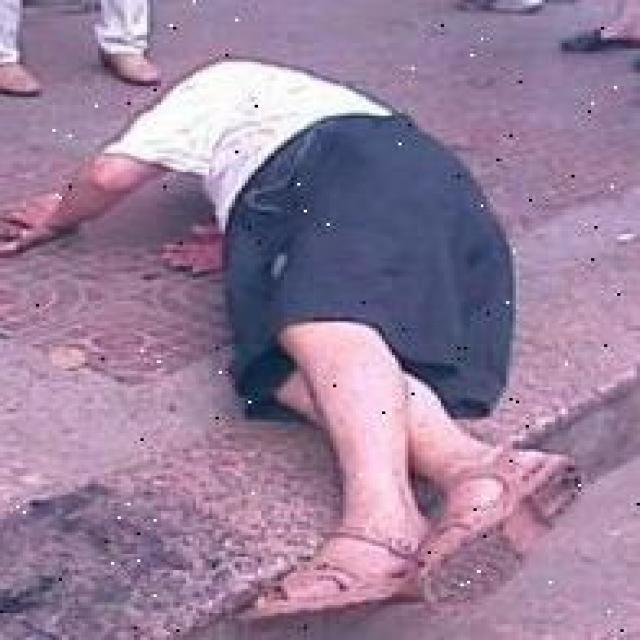fall: (42, 69, 562, 622)
